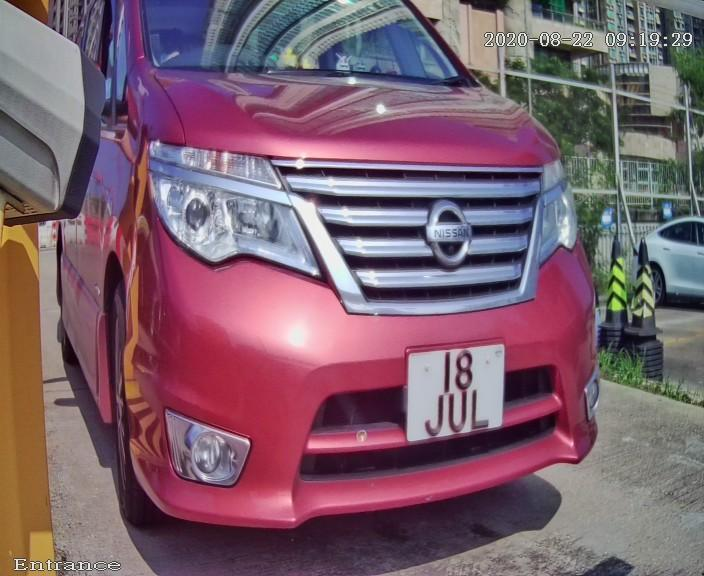License Plate: (379, 315, 522, 460)
